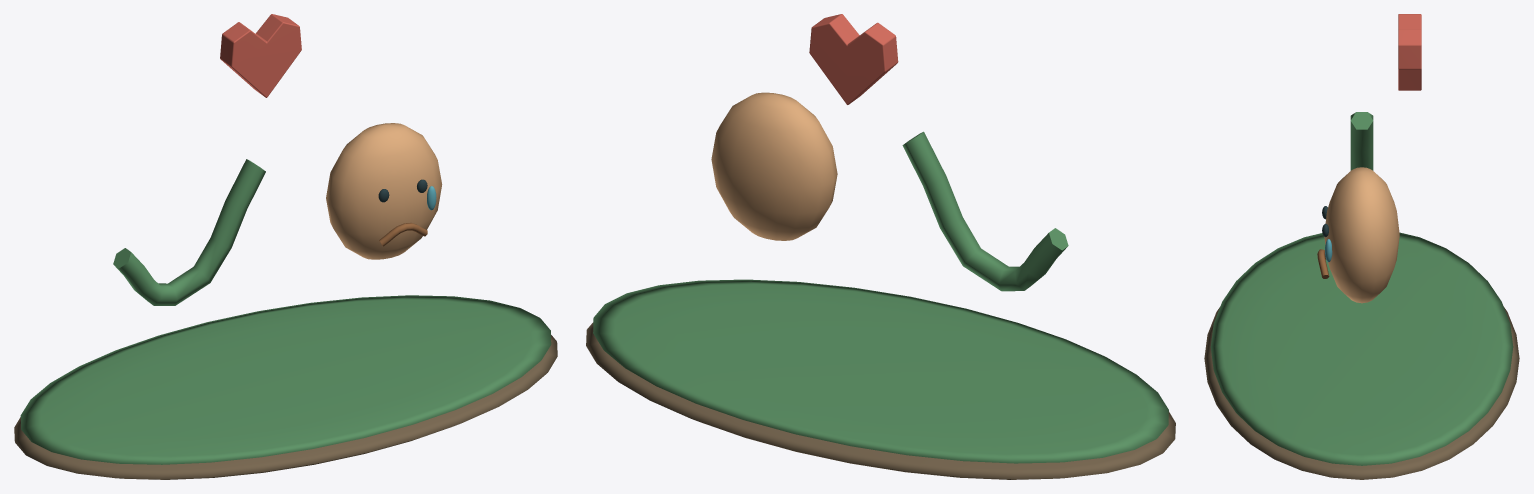
File: complete-third-allowed-but-regretted.glb
3 views of the same model, side by side, from view 1: azimuth 30°, elevation 25°; view 2: azimuth 150°, elevation 25°; view 3: azimuth 270°, elevation 25° (orthographic). The views are drawn at different scales.
Visible parts, largest first — view 1: complete-third-allowed-but-regretted_surface_01, complete-third-allowed-but-regretted_surface_02, complete-third-allowed-but-regretted_surface_00, complete-third-allowed-but-regretted_surface_06; view 2: complete-third-allowed-but-regretted_surface_01, complete-third-allowed-but-regretted_surface_02, complete-third-allowed-but-regretted_surface_00, complete-third-allowed-but-regretted_surface_06; view 3: complete-third-allowed-but-regretted_surface_01, complete-third-allowed-but-regretted_surface_02, complete-third-allowed-but-regretted_surface_00, complete-third-allowed-but-regretted_surface_06.
Part boxes in pixels (x1,y1,x2,y2): complete-third-allowed-but-regretted_surface_01: (20, 159, 551, 464); complete-third-allowed-but-regretted_surface_02: (326, 123, 442, 259); complete-third-allowed-but-regretted_surface_00: (14, 335, 557, 479); complete-third-allowed-but-regretted_surface_06: (220, 14, 301, 97); complete-third-allowed-but-regretted_surface_01: (593, 131, 1168, 463); complete-third-allowed-but-regretted_surface_02: (711, 92, 837, 240); complete-third-allowed-but-regretted_surface_00: (586, 322, 1175, 479); complete-third-allowed-but-regretted_surface_06: (809, 14, 898, 104); complete-third-allowed-but-regretted_surface_01: (1210, 112, 1513, 465); complete-third-allowed-but-regretted_surface_02: (1324, 167, 1399, 303); complete-third-allowed-but-regretted_surface_00: (1204, 307, 1519, 479); complete-third-allowed-but-regretted_surface_06: (1398, 14, 1421, 90).
Size of the model in its own units: 4.56 by 3.07 by 2.5.
